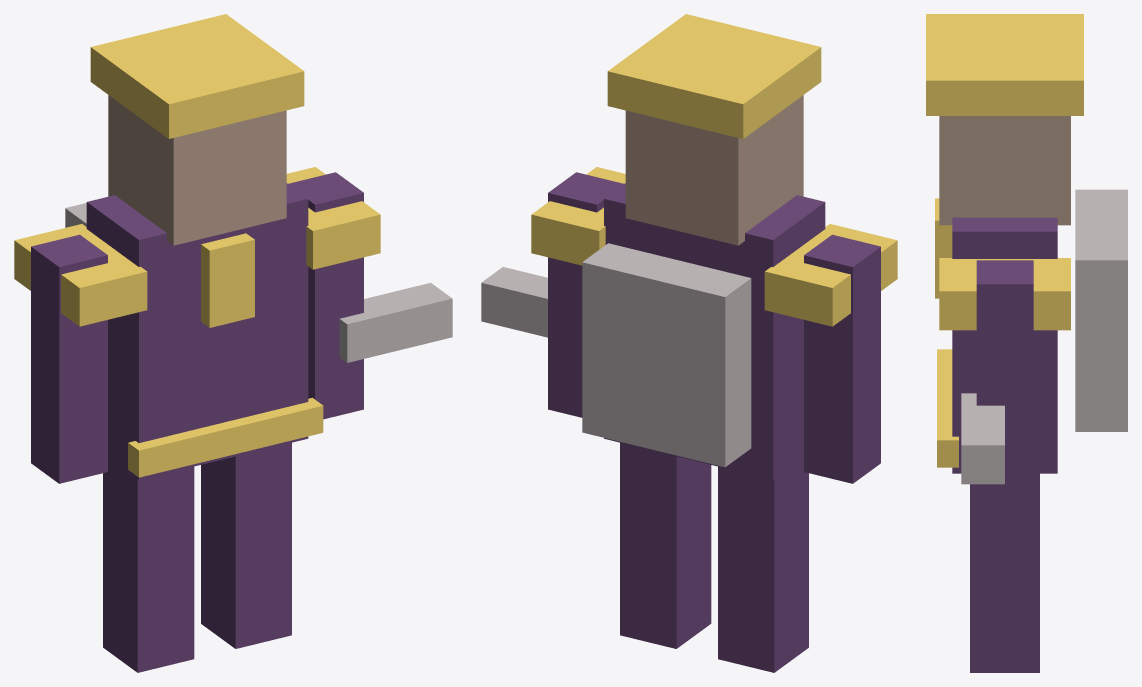
File: 05_kael_trenchmark_scout_near_loot.glb
3 renders of one model, left to right at view 1: azimuth 30°, elevation 25°; view 2: azimuth 150°, elevation 25°; view 3: azimuth 270°, elevation 25°, orthographic.
Visible parts, largest first — view 1: Kael Trenchmark, Scout near Loot; view 2: Kael Trenchmark, Scout near Loot; view 3: Kael Trenchmark, Scout near Loot.
Part boxes in pixels (x1,y1,x2,y2): Kael Trenchmark, Scout near Loot: (14,14,452,672); Kael Trenchmark, Scout near Loot: (481,14,897,672); Kael Trenchmark, Scout near Loot: (926,14,1127,672).
Bounding box in the file's own units: 0.9623 × 1.39 × 0.4319.
